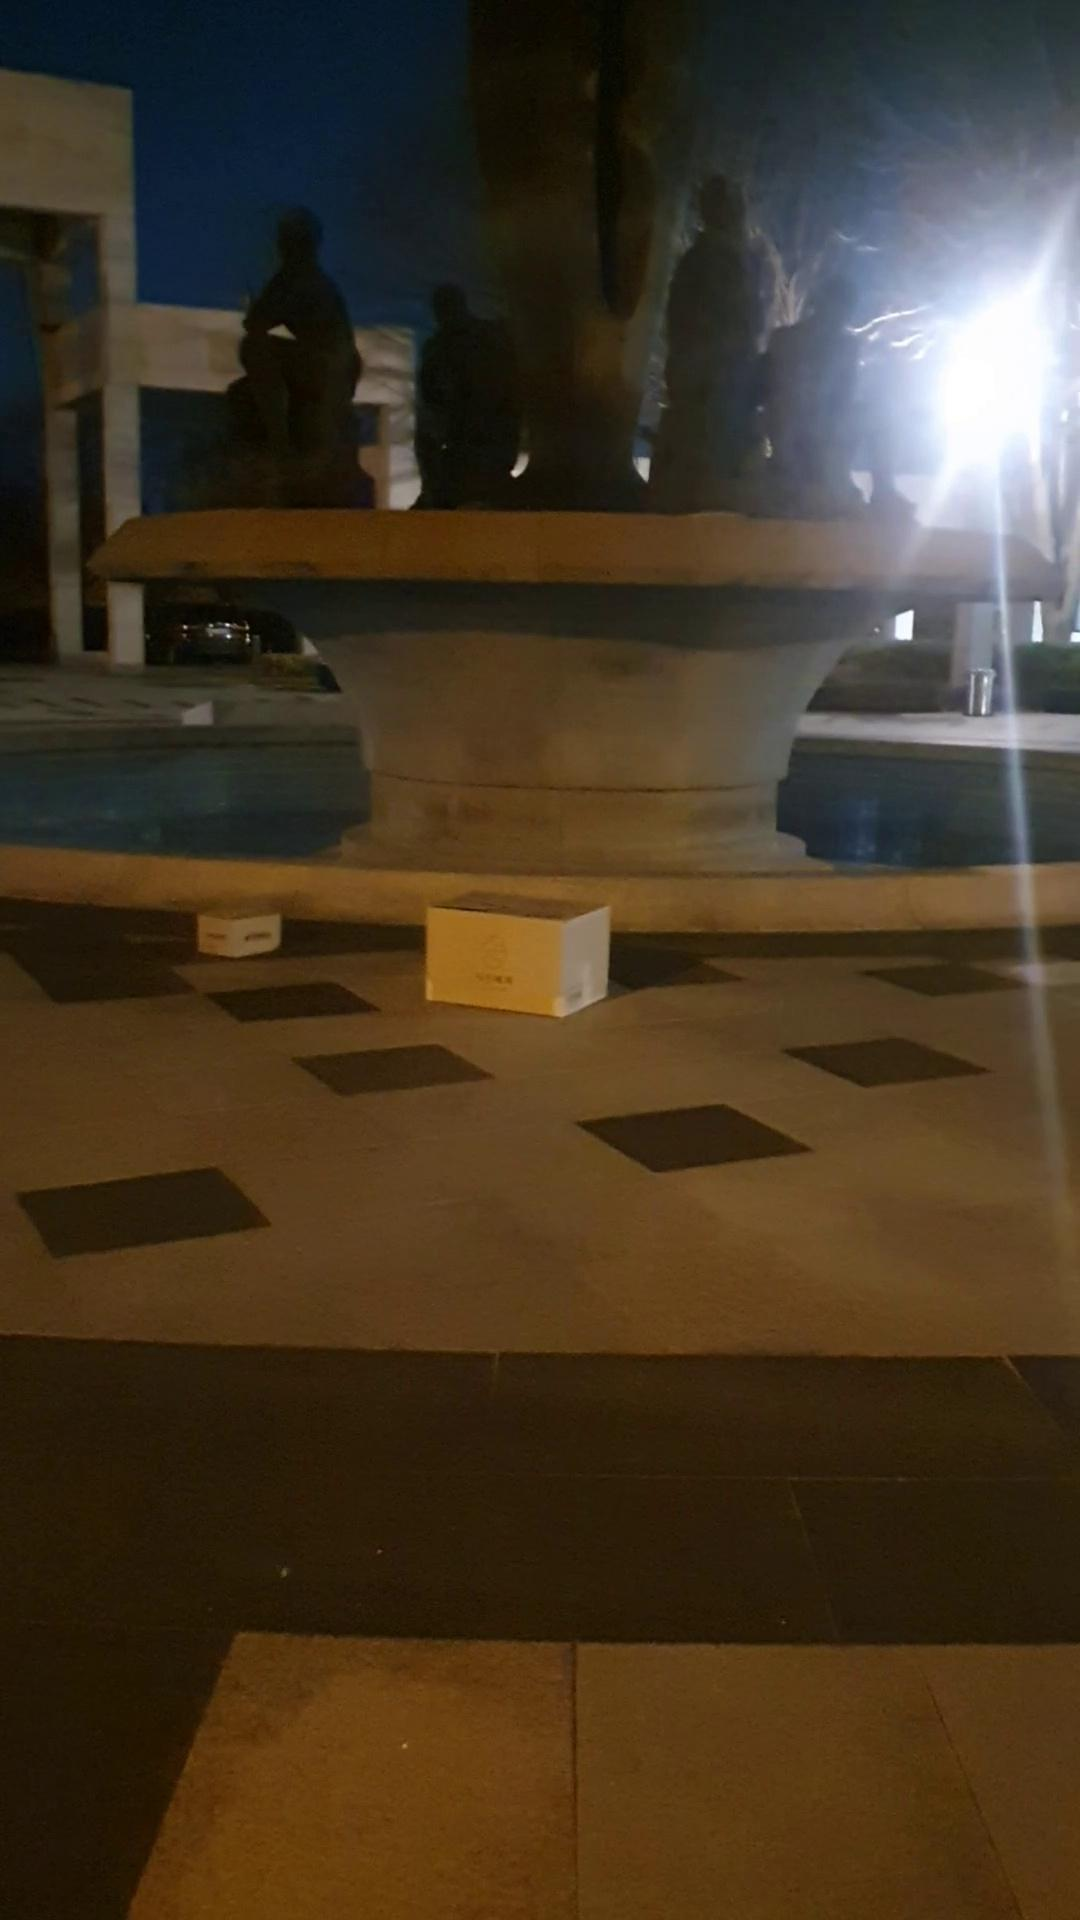Box: (421, 884, 615, 1029), (183, 880, 290, 967)
